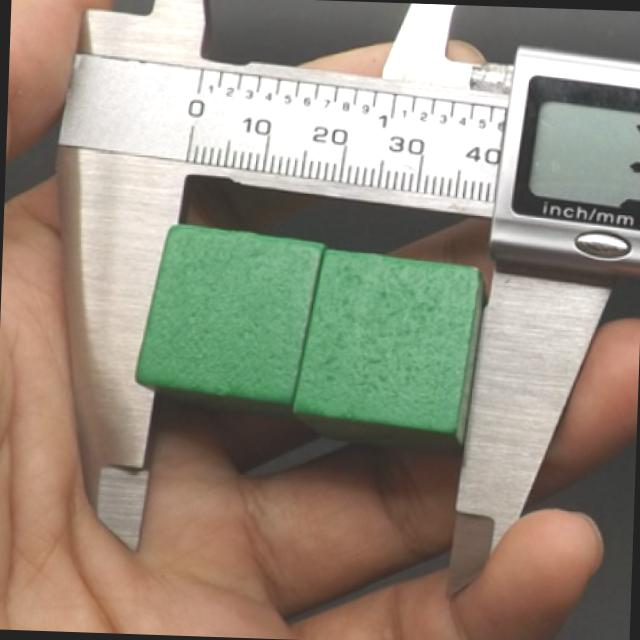green cube: (295, 249, 489, 459), (137, 223, 325, 431)
